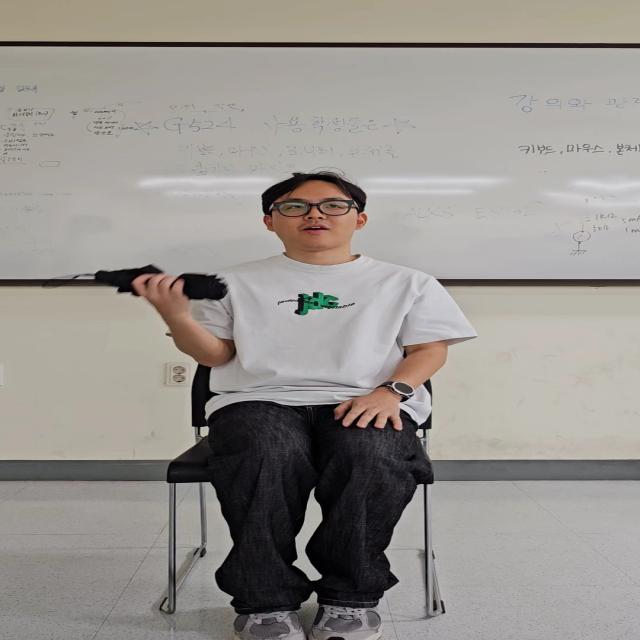curl: (101, 266, 258, 375)
